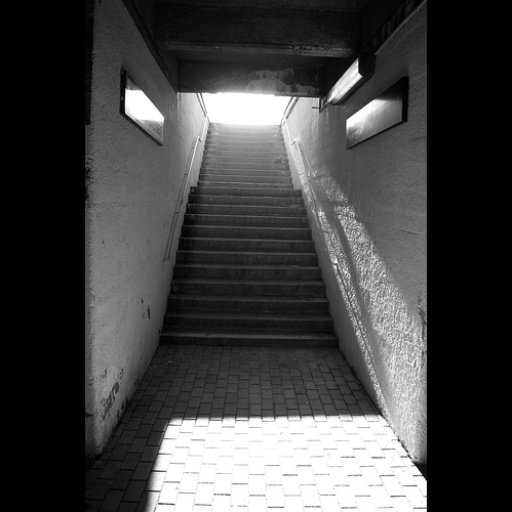Stairs: (161, 124, 337, 346)
